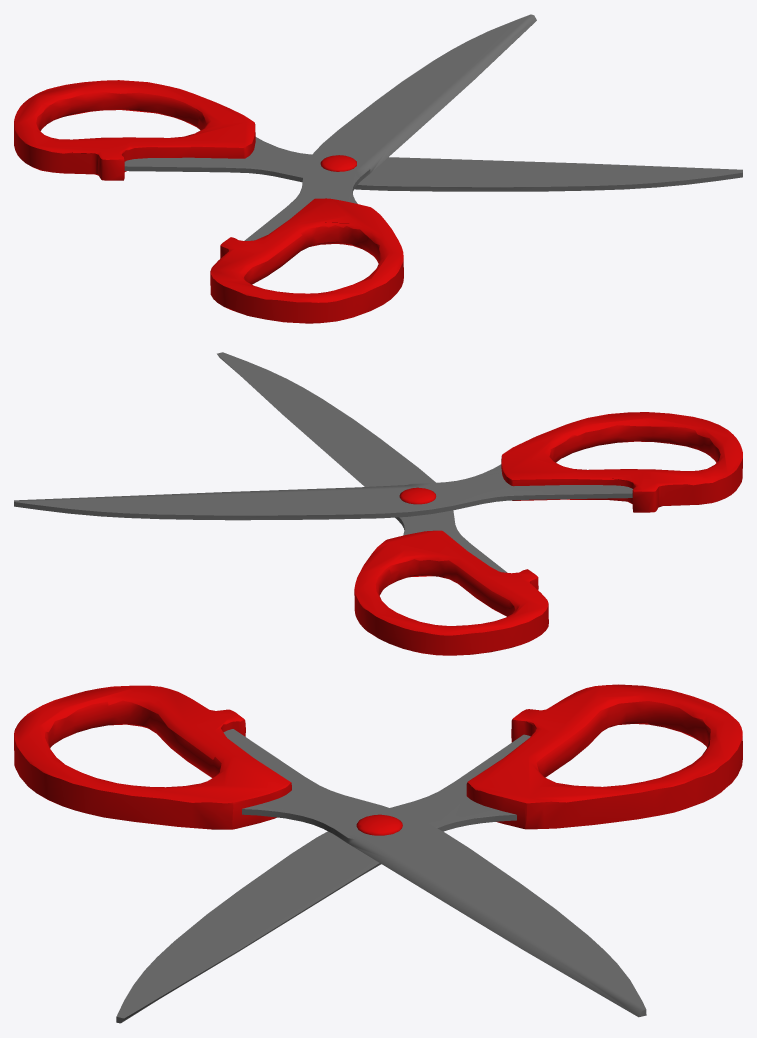
File: Scissors.glb
3 views of the same model, one above another, from view 1: azimuth 30°, elevation 25°; view 2: azimuth 150°, elevation 25°; view 3: azimuth 270°, elevation 25° (orthographic). The views are drawn at different scales.
Visible parts, largest first — view 1: Scissors; view 2: Scissors; view 3: Scissors.
Part boxes in pixels (<box>): Scissors: <box>14,14,742,323</box>; Scissors: <box>14,352,742,655</box>; Scissors: <box>14,684,742,1023</box>.
Size of the model in its own units: 1.27 by 0.0523 by 1.22.
